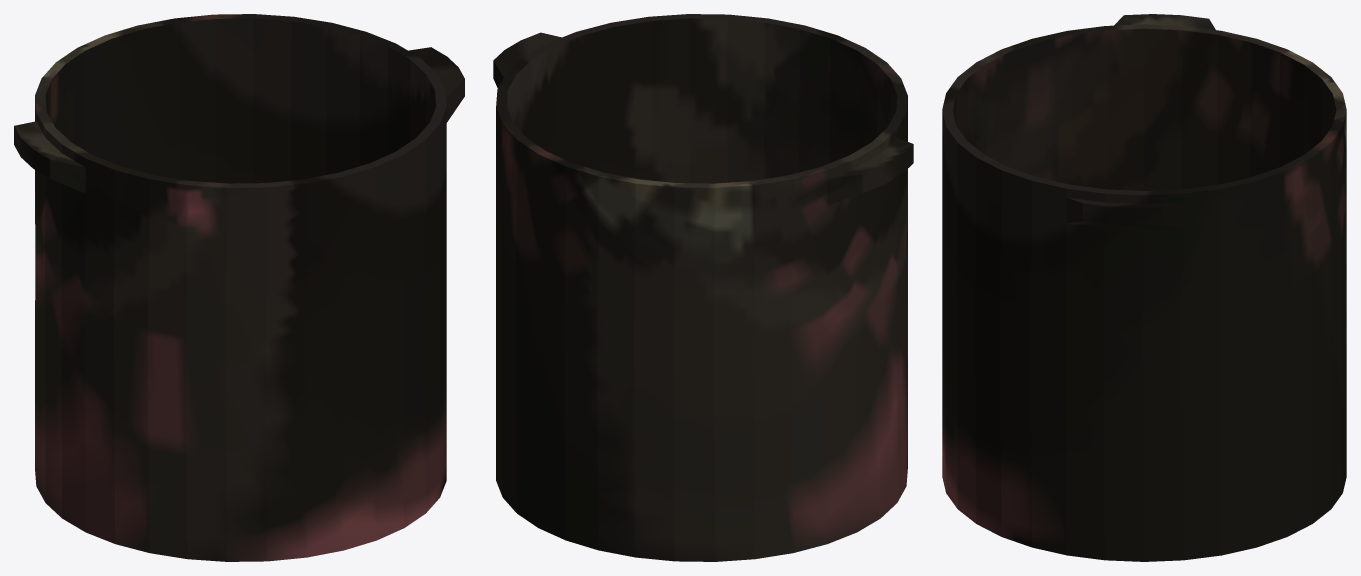
Rendered from SM_Cpot2.fbx.
3 renders of one model, left to right at view 1: azimuth 30°, elevation 25°; view 2: azimuth 150°, elevation 25°; view 3: azimuth 270°, elevation 25°, orthographic. The views are drawn at different scales.
Visible parts, largest first — view 1: SM_pot.002; view 2: SM_pot.002; view 3: SM_pot.002.
Boxes of the visible parts, <box> form: SM_pot.002: <box>14,14,464,561</box>; SM_pot.002: <box>493,14,913,561</box>; SM_pot.002: <box>942,14,1346,561</box>.
Size of the model in its own units: 35.94 by 31.67 by 31.67.
